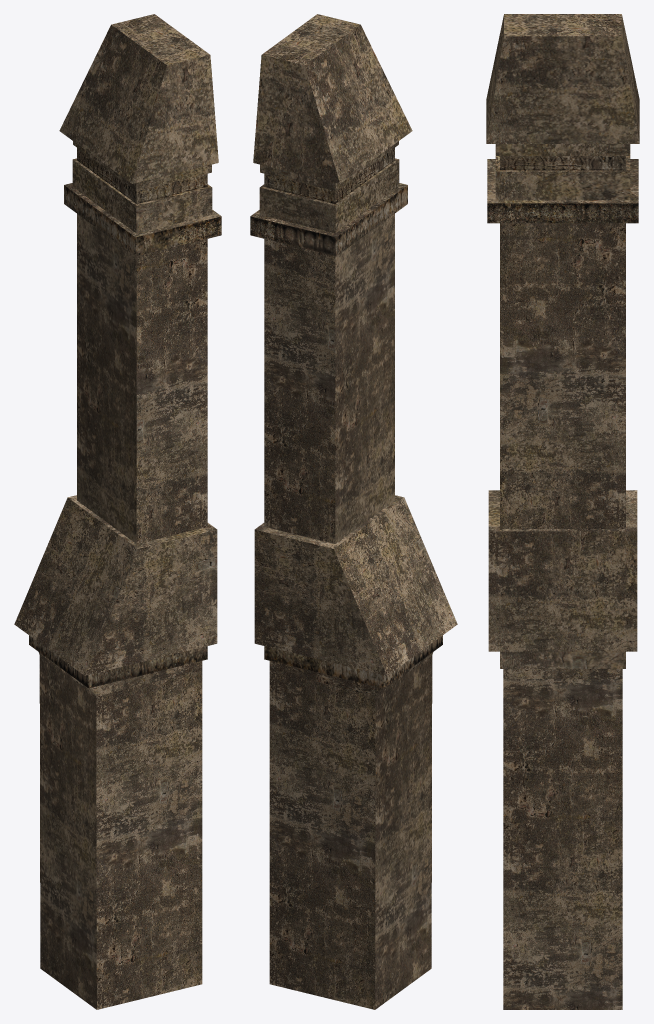
Rendered from materials_5_pillar_long_12.fbx.
3 views of the same model, side by side, from view 1: azimuth 30°, elevation 25°; view 2: azimuth 150°, elevation 25°; view 3: azimuth 270°, elevation 25° (orthographic). The views are drawn at different scales.
Visible parts, largest first — view 1: materials_5_pillar_long_12; view 2: materials_5_pillar_long_12; view 3: materials_5_pillar_long_12.
Boxes of the visible parts, bbox=[...] form: materials_5_pillar_long_12: bbox=[14, 14, 221, 1009]; materials_5_pillar_long_12: bbox=[250, 14, 457, 1009]; materials_5_pillar_long_12: bbox=[486, 14, 639, 1009].
Size of the model in its own units: 113 by 731 by 104.
